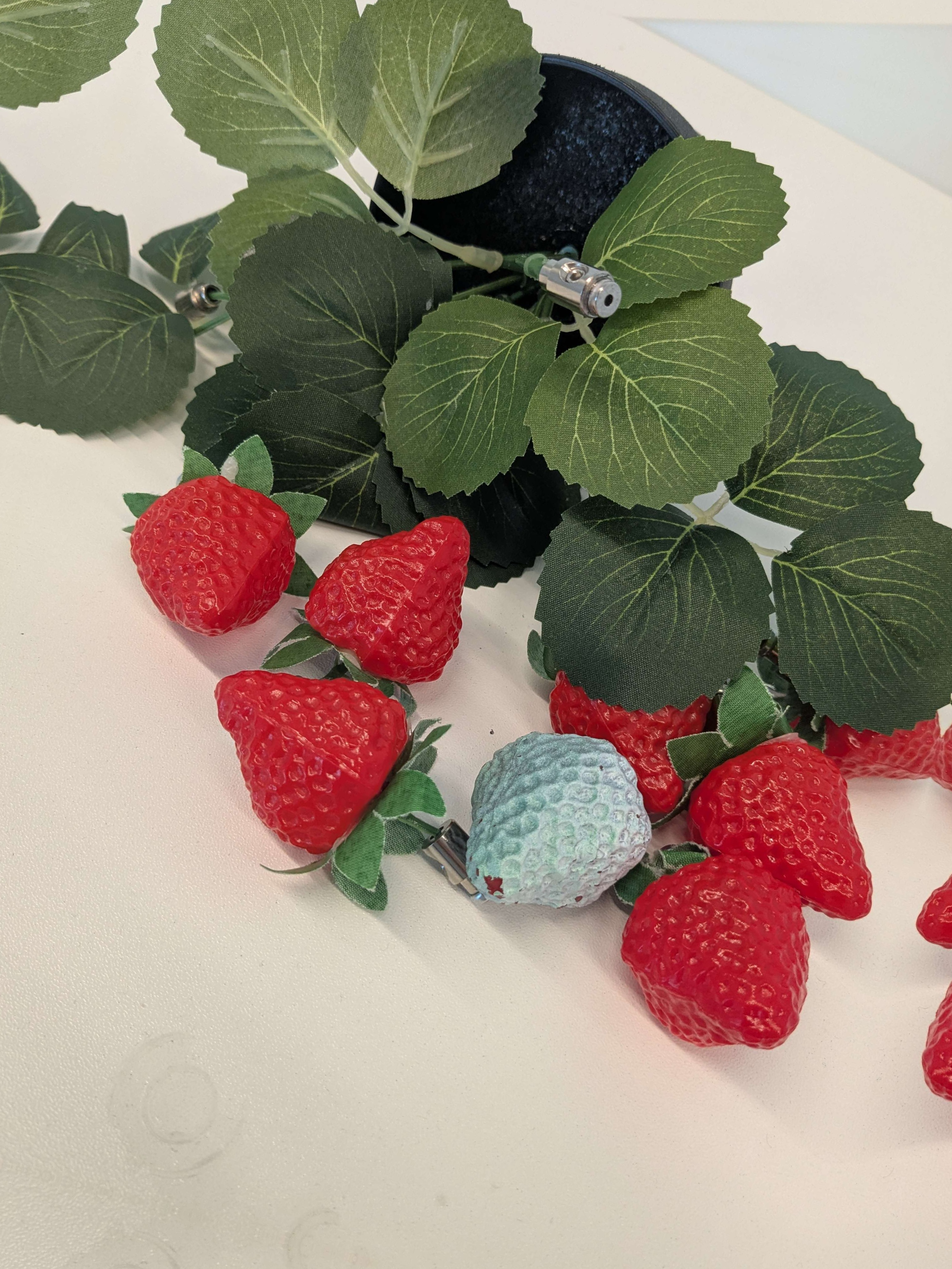Strawberry: (160, 630, 455, 903), (585, 815, 856, 1092), (87, 427, 338, 675), (654, 712, 914, 951), (287, 477, 495, 702), (518, 627, 731, 822), (808, 677, 949, 800)
